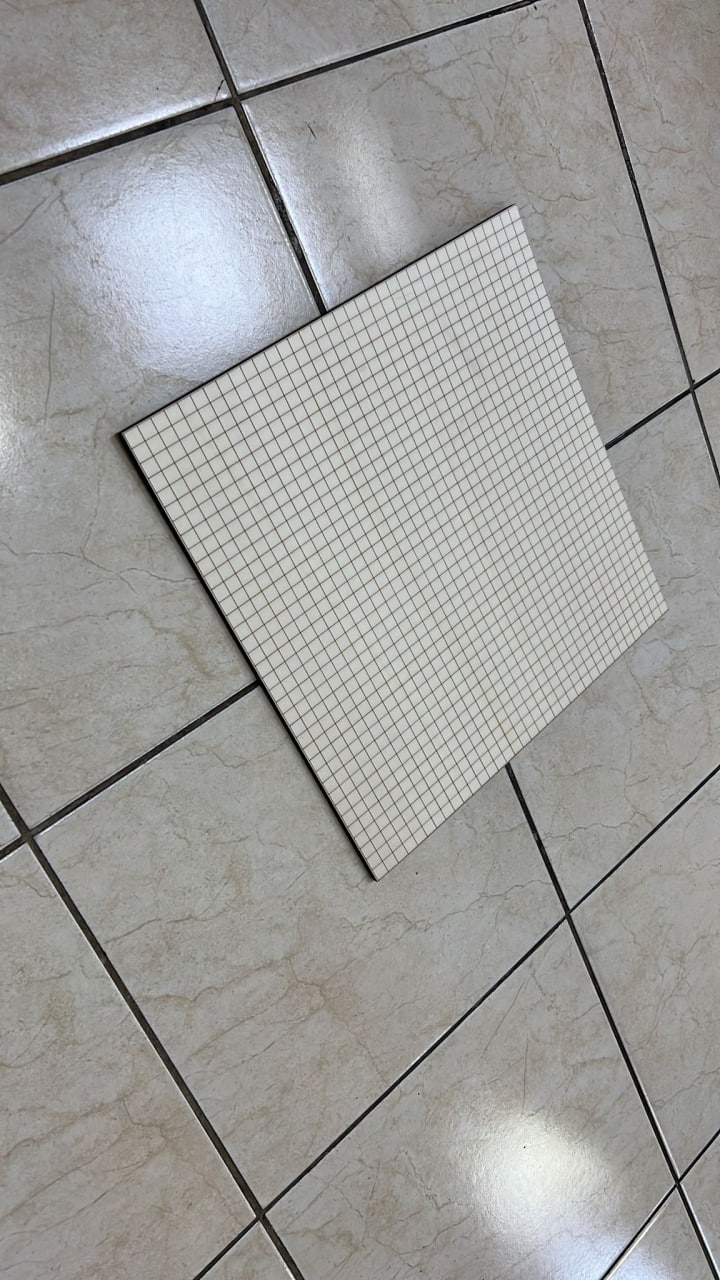grid: (103, 190, 679, 901)
